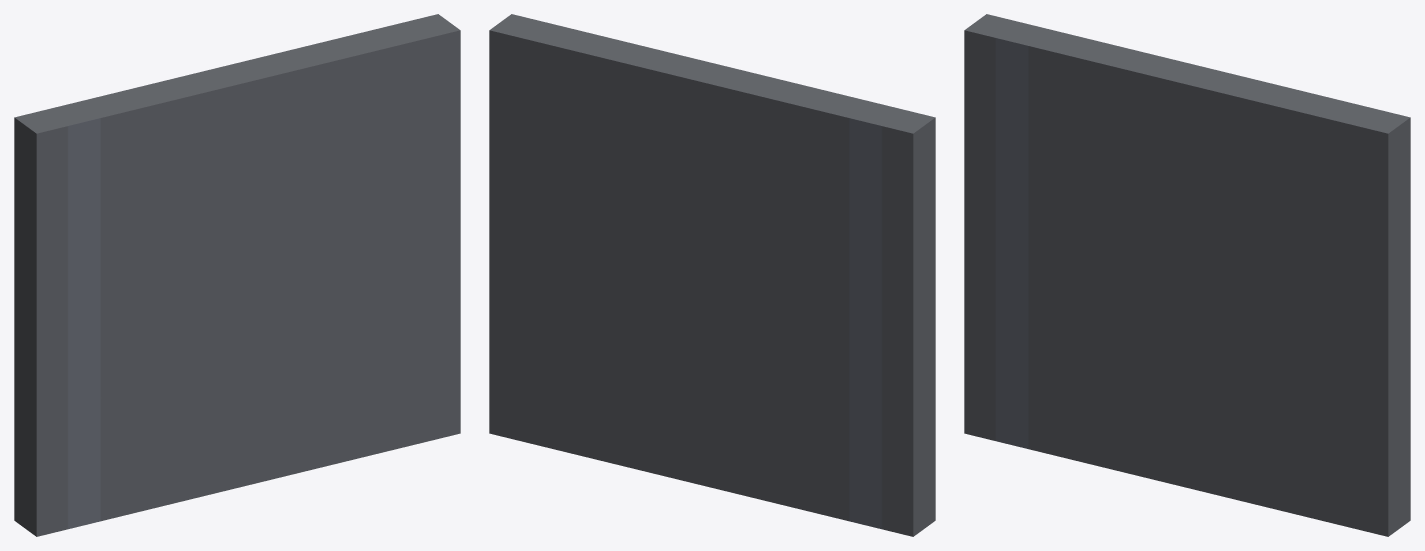
Rendered from BgMD_Tanihira_Door_big_0101.fbx.
3 views of the same model, side by side, from view 1: azimuth 30°, elevation 25°; view 2: azimuth 150°, elevation 25°; view 3: azimuth 330°, elevation 25° (orthographic).
Visible parts, largest first — view 1: pCube20; view 2: pCube20; view 3: pCube20.
Part boxes in pixels (x1,y1,x2,y2): pCube20: (14, 14, 460, 536); pCube20: (489, 14, 935, 536); pCube20: (964, 14, 1410, 536).
Bounding box in the file's own units: 220 × 200 × 20.
